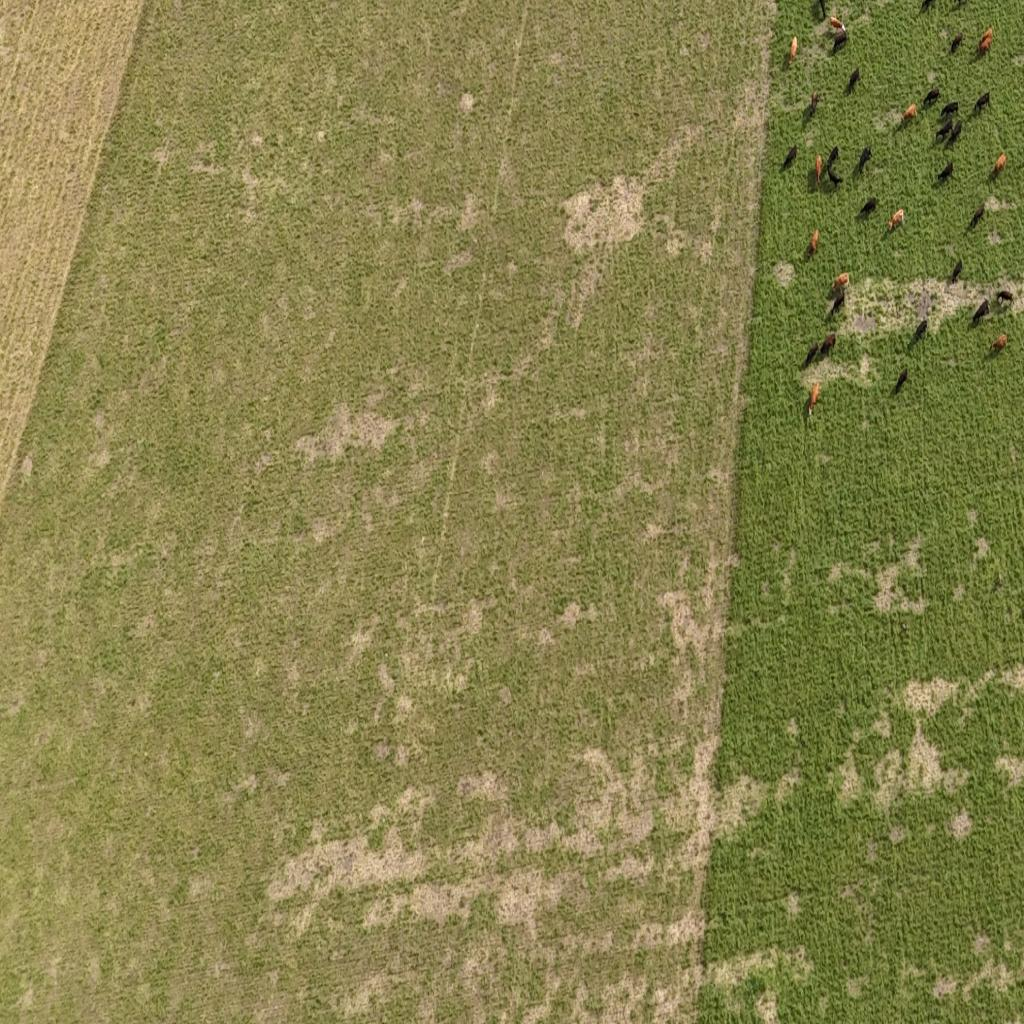cow: (987, 142, 1014, 186), (949, 252, 972, 286), (781, 146, 799, 177), (935, 117, 954, 145), (827, 290, 845, 319), (843, 67, 862, 94), (938, 158, 954, 190), (910, 319, 928, 347), (886, 208, 904, 236), (972, 299, 990, 326), (813, 151, 826, 188), (857, 145, 872, 176), (892, 367, 908, 396), (916, 0, 936, 22), (901, 105, 919, 129), (808, 380, 820, 416), (832, 273, 850, 297), (858, 197, 878, 218), (948, 120, 963, 148), (832, 26, 848, 52), (973, 92, 990, 116), (969, 204, 985, 229), (820, 333, 836, 358), (988, 334, 1007, 355), (922, 86, 940, 108), (940, 100, 959, 120), (804, 341, 819, 366), (828, 162, 842, 188), (830, 11, 846, 33), (978, 38, 995, 58), (808, 229, 820, 257), (997, 289, 1014, 308), (788, 36, 798, 68), (950, 32, 964, 54), (809, 90, 820, 118), (977, 28, 994, 43), (816, 0, 827, 22), (828, 145, 839, 167), (952, 0, 968, 9)
